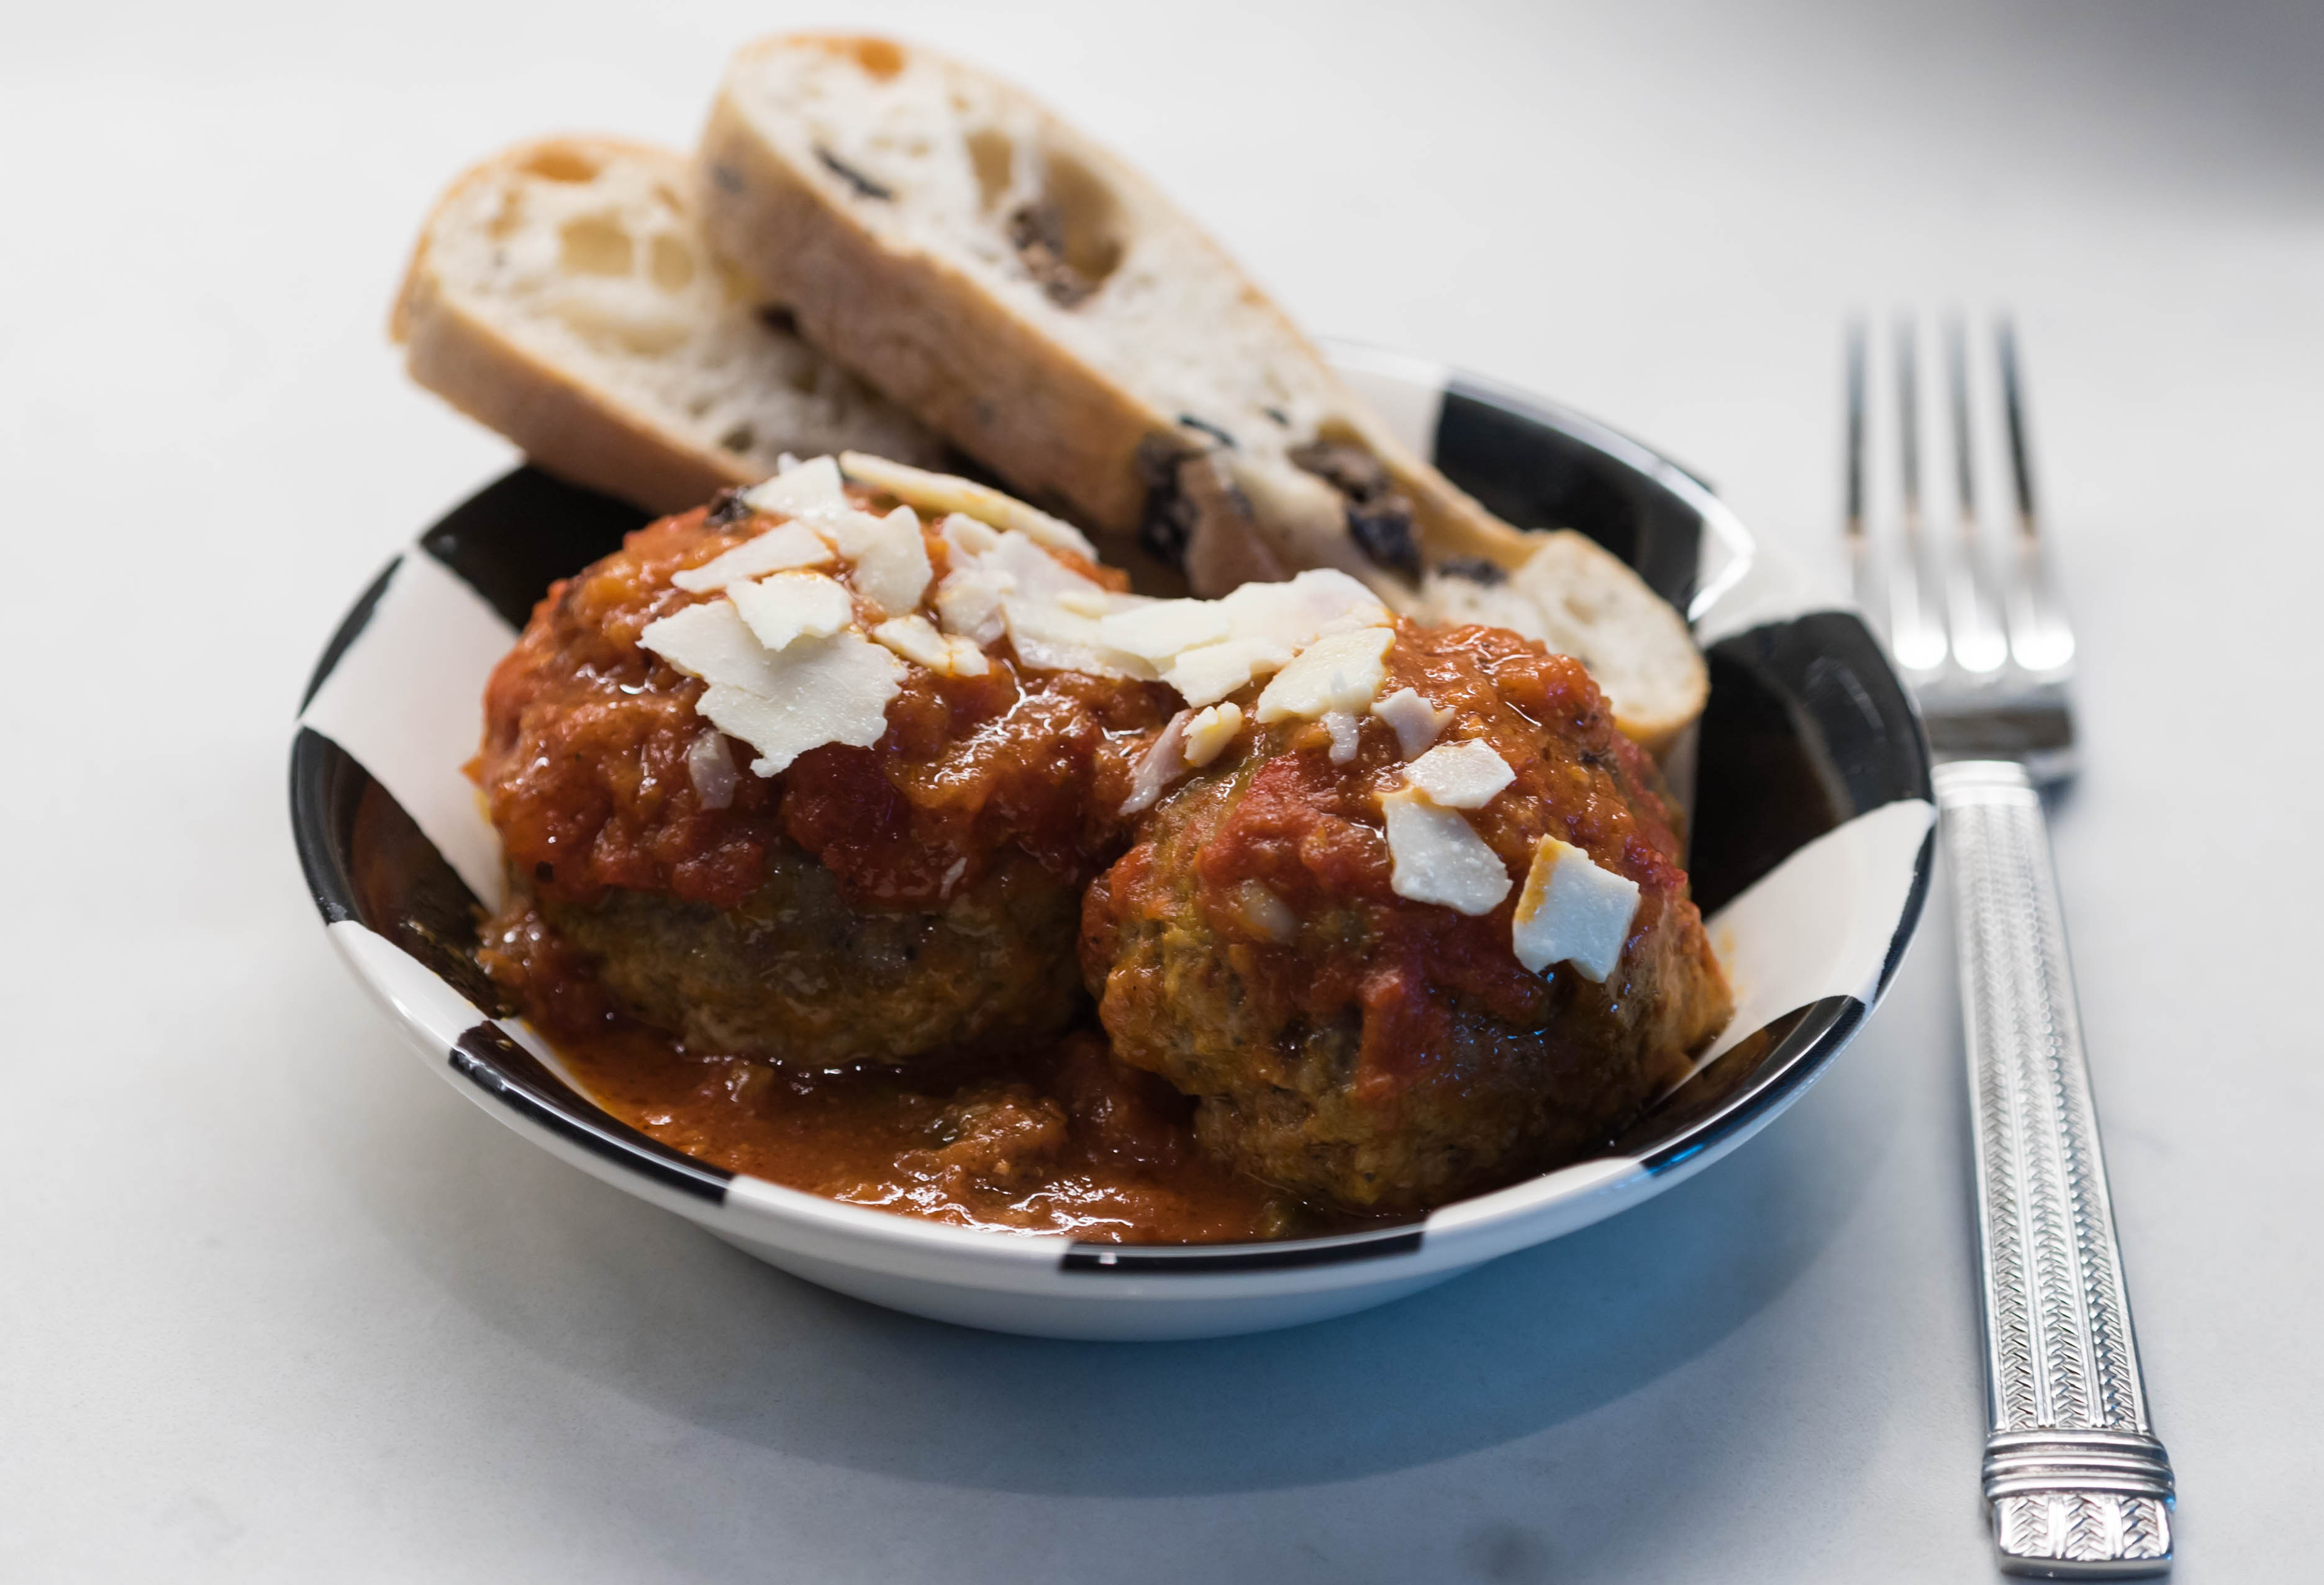meatballs: (1107, 595, 1685, 1210), (509, 516, 1132, 1044)
slice of bread: (392, 74, 1616, 587)
